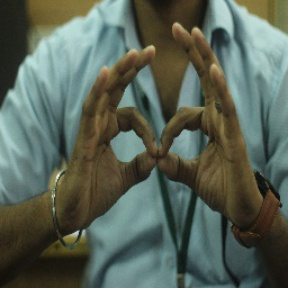B: (100, 92, 221, 196)
